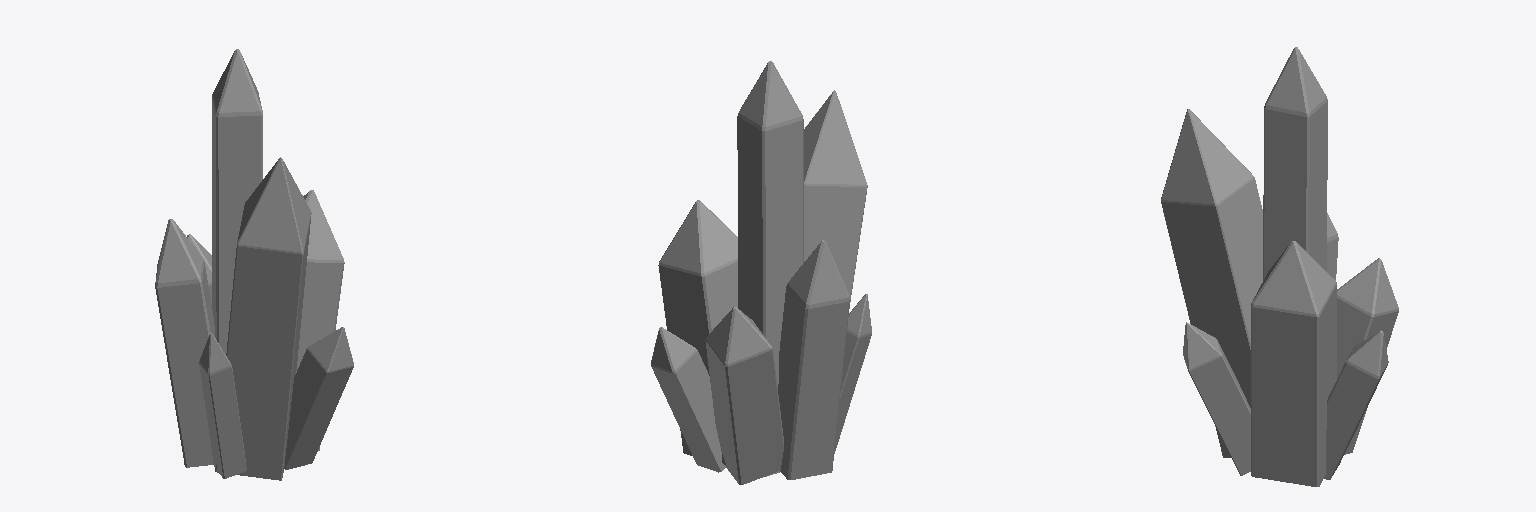
Rendered from celestial_prism.obj.
3 views of the same model, side by side, from view 1: azimuth 30°, elevation 25°; view 2: azimuth 150°, elevation 25°; view 3: azimuth 270°, elevation 25° (orthographic).
Visible parts, largest first — view 1: none; view 2: none; view 3: none.
Part boxes in pixels (left/top/right/bottom): none: left=155, top=49, right=353, bottom=480; none: left=651, top=61, right=871, bottom=484; none: left=1161, top=47, right=1398, bottom=486.
Size of the model in its own units: 0.4406 by 0.9386 by 0.4997.